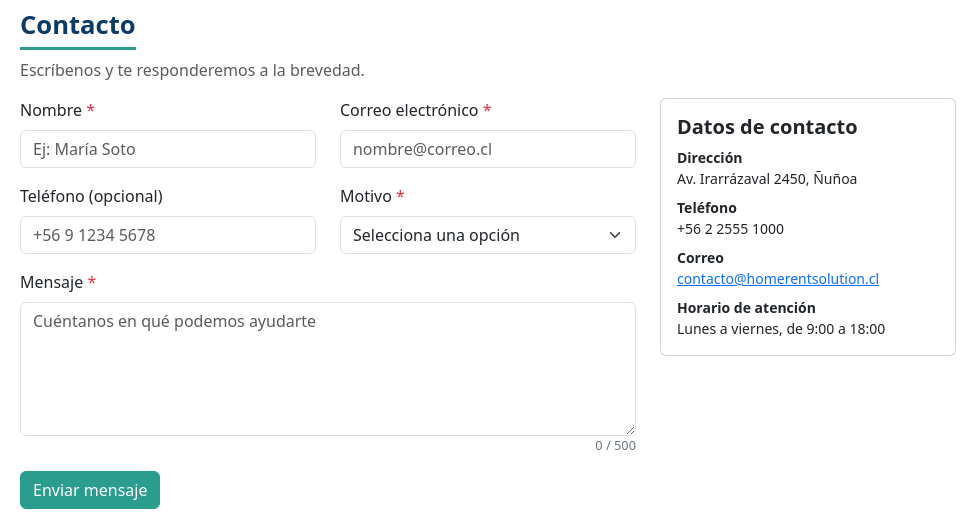
Scenario: Contacto › Cuenta los caracteres del mensaje
Expected: the text "0 / 500" is shown, [595,436,636,454]
Type "Hola" into the text box labelled "Mensaje *" at (328, 369), box [20,302,636,436]
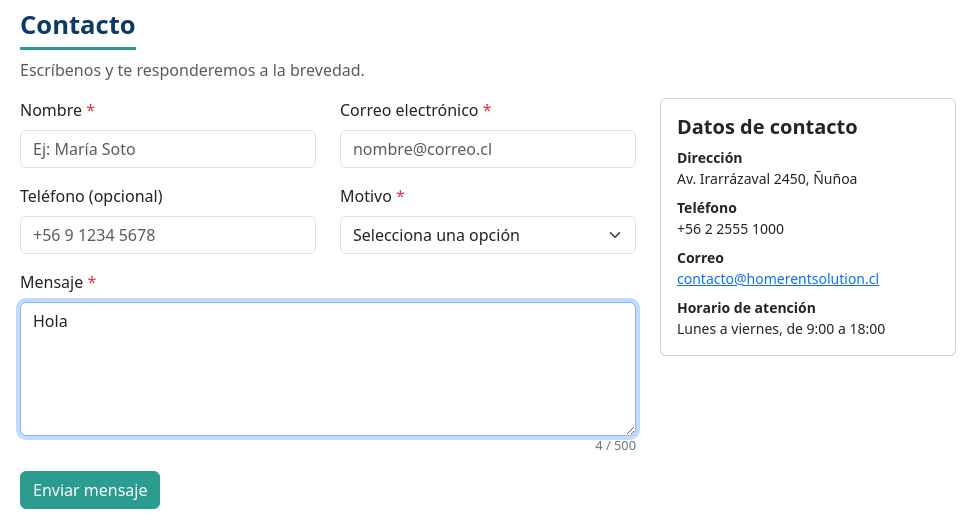
Expected: the text "4 / 500" is shown, [595,436,636,454]
